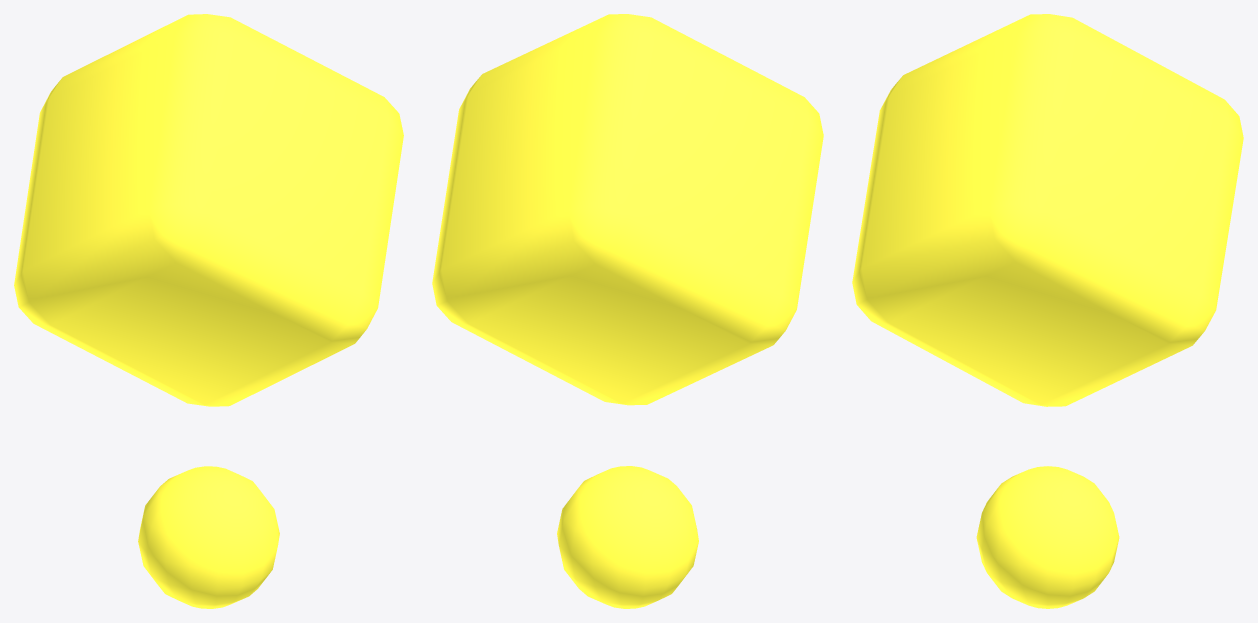
File: delivery-start-marker.dae
The picture shows the model from 3 angles, left to right: view 1: azimuth 30°, elevation 25°; view 2: azimuth 150°, elevation 25°; view 3: azimuth 270°, elevation 25°; orthographic projection.
Parts seen in each view (by area): view 1: StartMarkerTop, StartMarkerBottom; view 2: StartMarkerTop, StartMarkerBottom; view 3: StartMarkerTop, StartMarkerBottom.
Part boxes in pixels (box(x1,y1,x2,y2)): StartMarkerTop: box(14, 14, 403, 406); StartMarkerBottom: box(138, 466, 279, 608); StartMarkerTop: box(432, 14, 823, 405); StartMarkerBottom: box(557, 466, 698, 608); StartMarkerTop: box(852, 14, 1243, 406); StartMarkerBottom: box(976, 466, 1119, 608).
Size of the model in its own units: 1.13 by 1.1 by 1.81.
